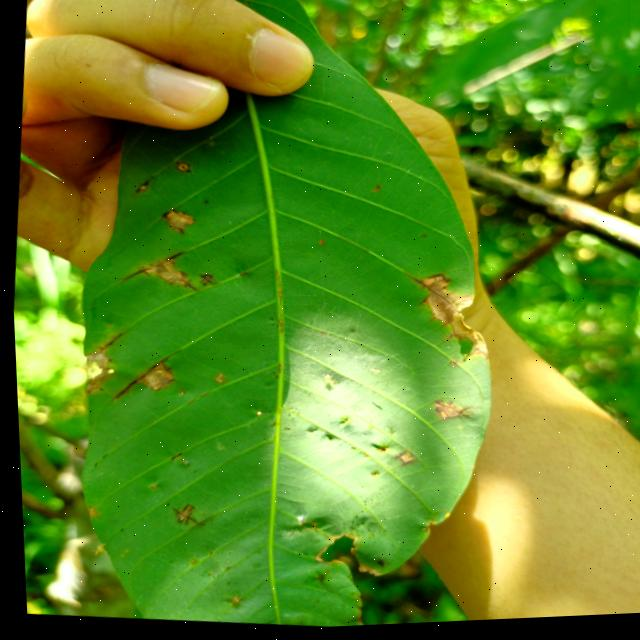Colletotrichum: (174, 162, 189, 175)
Corynespora: (118, 245, 199, 296), (106, 349, 173, 406), (166, 502, 195, 527), (388, 451, 411, 470)
Leaf-Blight: (414, 276, 490, 364)
